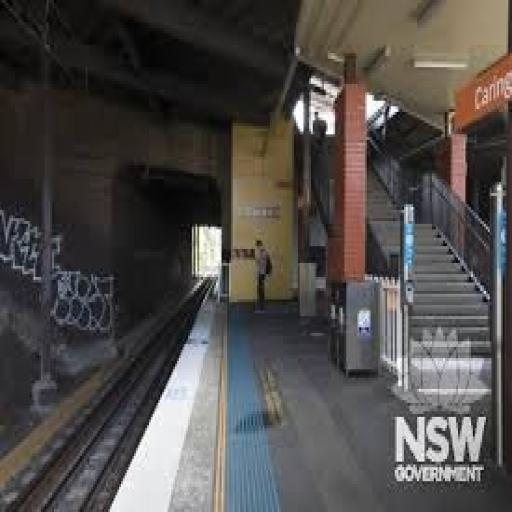stairs: (364, 144, 509, 385)
